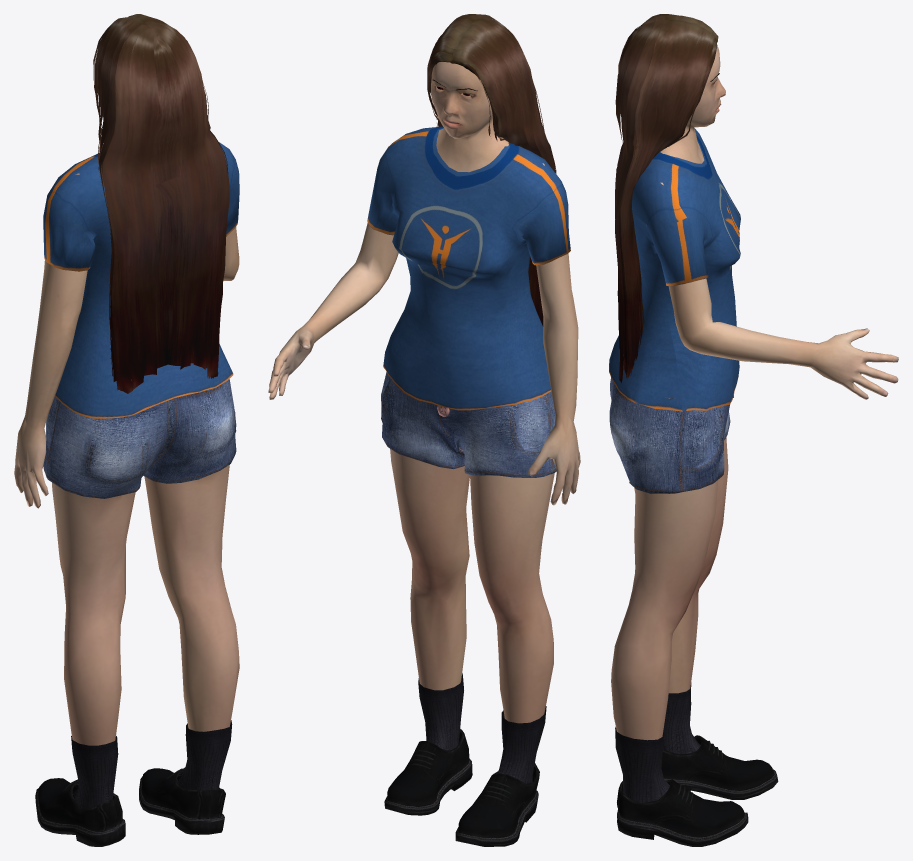
The model's file is relaxed_4.gltf.
The picture shows the model from 3 angles, left to right: view 1: azimuth 30°, elevation 25°; view 2: azimuth 150°, elevation 25°; view 3: azimuth 270°, elevation 25°; orthographic projection. The views are drawn at different scales.
Parts seen in each view (by area): view 1: relaxed; view 2: relaxed; view 3: relaxed.
Part boxes in pixels (bbox=[...]): relaxed: bbox=[14, 14, 239, 846]; relaxed: bbox=[268, 14, 580, 846]; relaxed: bbox=[609, 14, 898, 846].
Size of the model in its own units: 0.4662 by 1.62 by 0.5347.
6 materials, 6 textured.
